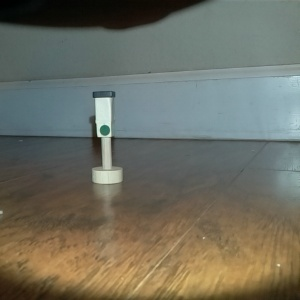traffic light green: (89, 89, 125, 185)
